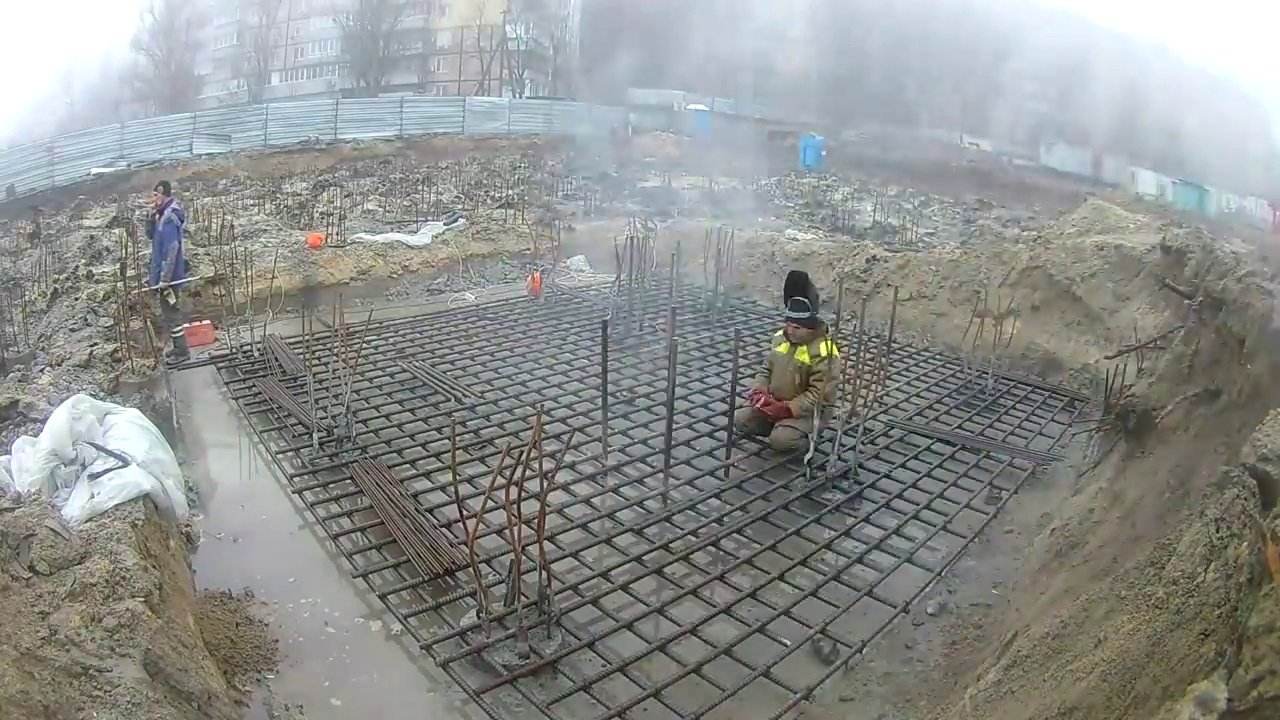helmet: (526, 270, 543, 300), (304, 231, 326, 250)
helmet-off: (783, 272, 824, 341), (149, 181, 177, 217)
person: (733, 270, 837, 449), (137, 182, 191, 333)
